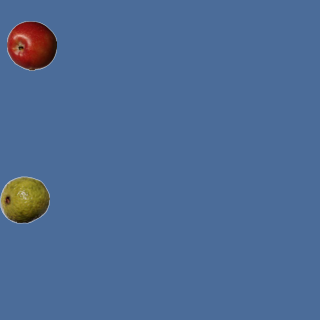Apple Braeburn: (6, 20, 56, 70)
Guava: (0, 174, 49, 224)
